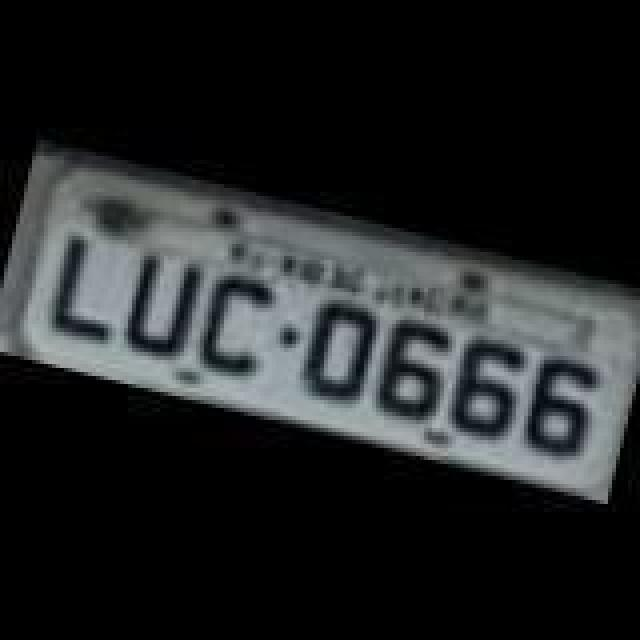6: (436, 324, 532, 444), (364, 310, 460, 426), (510, 346, 602, 462)
C: (188, 264, 284, 384)
L: (44, 228, 132, 348)
O: (288, 292, 384, 412)
U: (114, 246, 206, 362)
